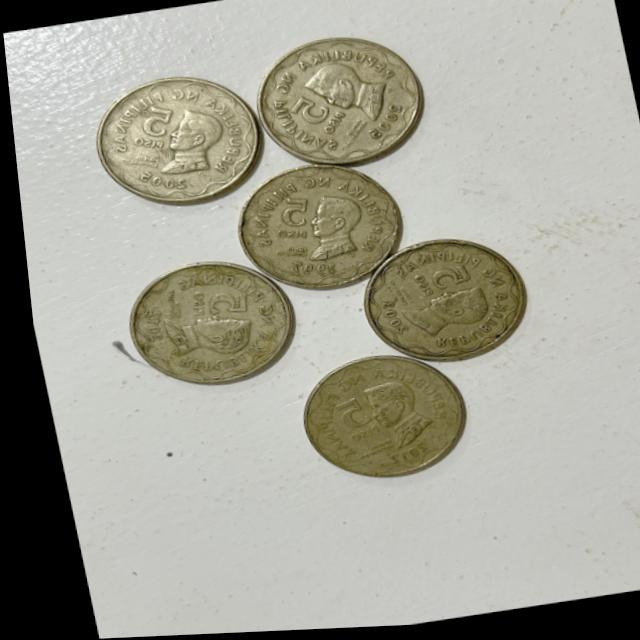5_Old_Front: (170, 281, 248, 332), (114, 103, 182, 159), (277, 91, 347, 145), (385, 261, 458, 307), (322, 387, 367, 447), (265, 197, 315, 246)
